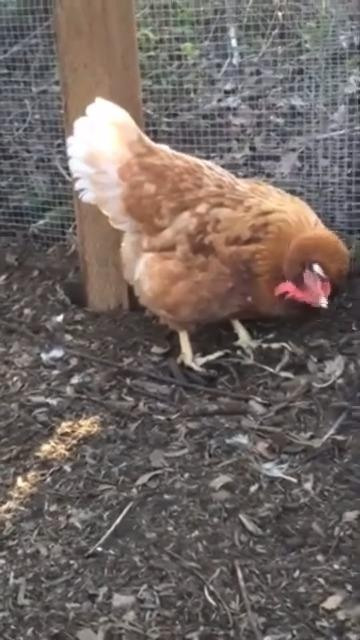AbNormal: (79, 112, 351, 365)
